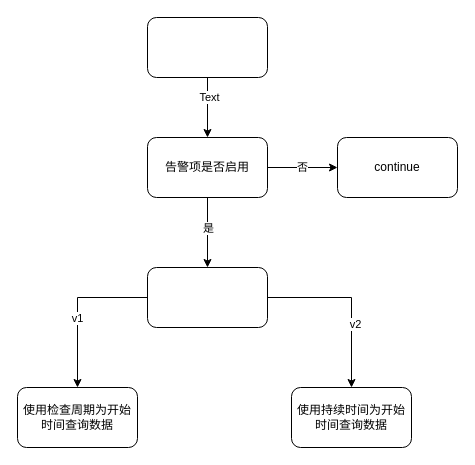
This 475x465 diagram has some shape labels left out. Each missing label, with the centre of its shape:
"goroutine 判断告警项版本" goes at point 207,297.
"遍历业务配置的告警项" goes at point 207,47.
